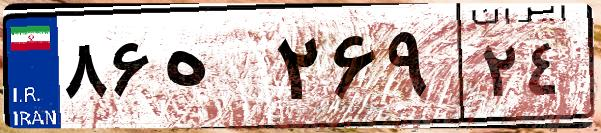2: (270, 28, 330, 110), (475, 38, 525, 113)
4: (525, 38, 570, 115)
6: (330, 28, 385, 110), (110, 28, 158, 98)
8: (57, 26, 110, 100)
9: (385, 28, 445, 110)
ه: (158, 20, 270, 120)
